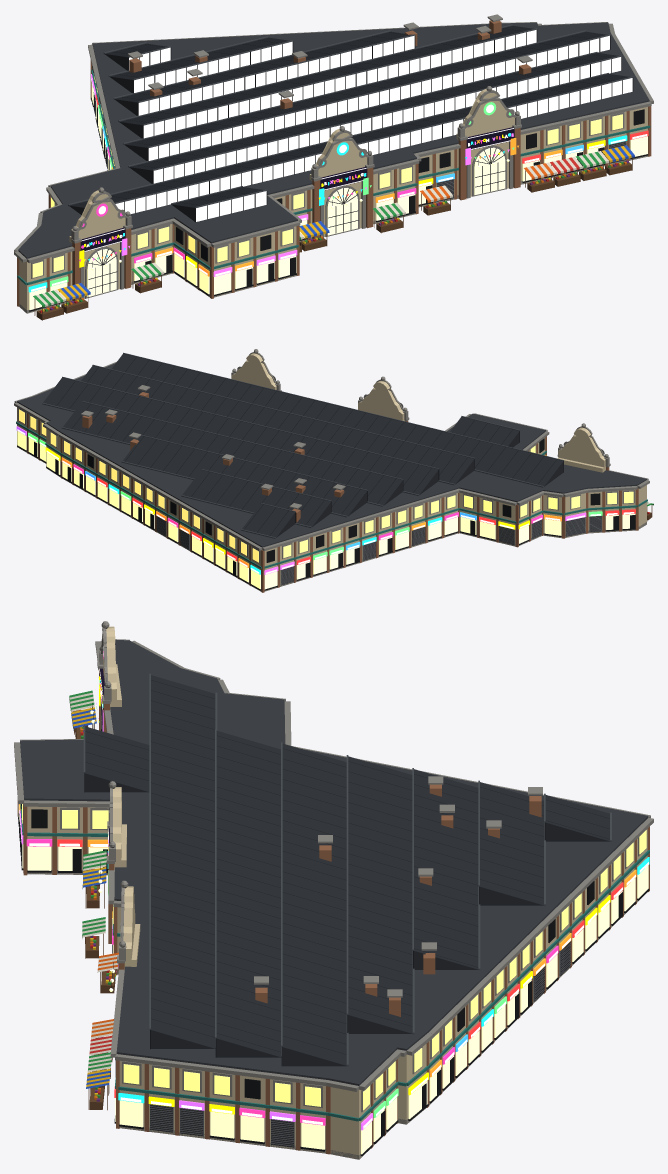
Rendered from brixton_village.glb.
The picture shows the model from 3 angles, top to bottom: view 1: azimuth 30°, elevation 25°; view 2: azimuth 150°, elevation 25°; view 3: azimuth 270°, elevation 25°; orthographic projection. The views are drawn at different scales.
Parts seen in each view (by area): view 1: Emit_RoofGlass, RoofMetal, Roof, Concrete, Render_Cream, Dark, Steel, Emit_Shop, Brick, Wood, Emit_Window, PaintBand (+11 smaller); view 2: RoofMetal, Render_Cream, Roof, Concrete, Dark, Emit_Shop, Brick, Steel, Emit_Window, Shutter, PaintBand, Emit_SignWhite (+2 smaller); view 3: RoofMetal, Roof, Dark, Concrete, Render_Cream, Brick, Emit_Shop, Emit_Window, Steel, PaintBand, Shutter, StripeWhite (+6 smaller).
Boxes of the visible parts, box(x1,y1,x2,y2) form: Emit_RoofGlass: box(115, 30, 632, 221); RoofMetal: box(69, 25, 629, 221); Roof: box(18, 22, 649, 258); Concrete: box(14, 14, 653, 313); Render_Cream: box(19, 73, 647, 313); Dark: box(29, 28, 648, 311); Steel: box(68, 24, 633, 207); Emit_Shop: box(29, 83, 647, 310); Brick: box(17, 20, 651, 307); Wood: box(34, 153, 632, 320); Emit_Window: box(32, 76, 622, 277); PaintBand: box(17, 69, 650, 285); RoofMetal: box(43, 354, 563, 537); Render_Cream: box(17, 353, 646, 590); Roof: box(17, 363, 646, 547); Concrete: box(14, 349, 649, 591); Dark: box(17, 357, 635, 590); Emit_Shop: box(17, 431, 635, 589); Brick: box(27, 392, 638, 592); Steel: box(42, 352, 563, 538); Emit_Window: box(19, 409, 633, 562); Shutter: box(156, 516, 601, 585); PaintBand: box(16, 421, 647, 568); Emit_SignWhite: box(17, 429, 634, 574); RoofMetal: box(84, 675, 609, 1066); Roof: box(20, 640, 648, 1085); Dark: box(18, 680, 649, 1156); Concrete: box(14, 621, 653, 1159); Render_Cream: box(27, 626, 647, 1158); Brick: box(17, 669, 649, 1154); Emit_Shop: box(18, 806, 648, 1154); Emit_Window: box(22, 804, 646, 1110); Steel: box(83, 673, 611, 1066); PaintBand: box(20, 804, 649, 1121); Shutter: box(150, 941, 570, 1147); StripeWhite: box(69, 692, 118, 1072).
Size of the model in its own units: 105 by 15.65 by 63.25.
